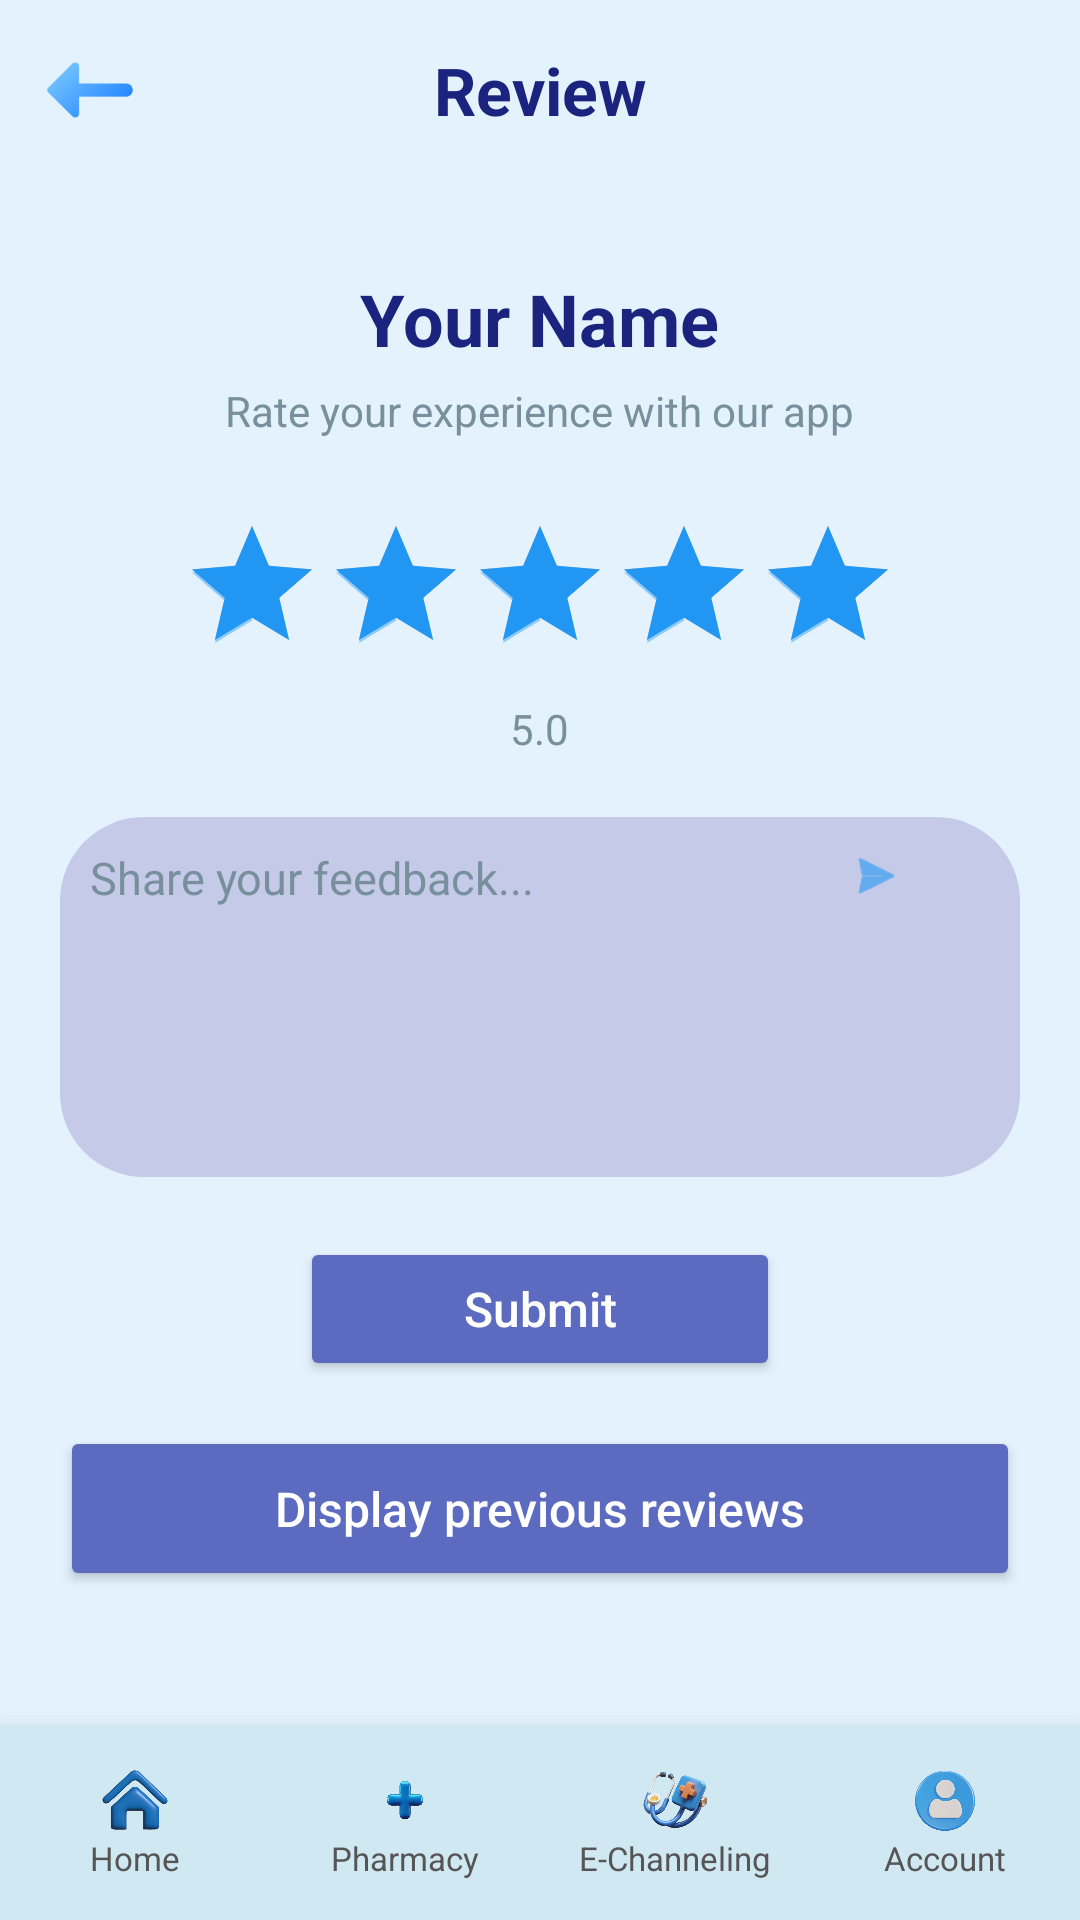

Icons on this 1080px×1920px Android screen, each with its box as box=[x1, y1, x2, y2]:
arrow: box=[47, 62, 133, 118]
send: box=[858, 858, 895, 894]
